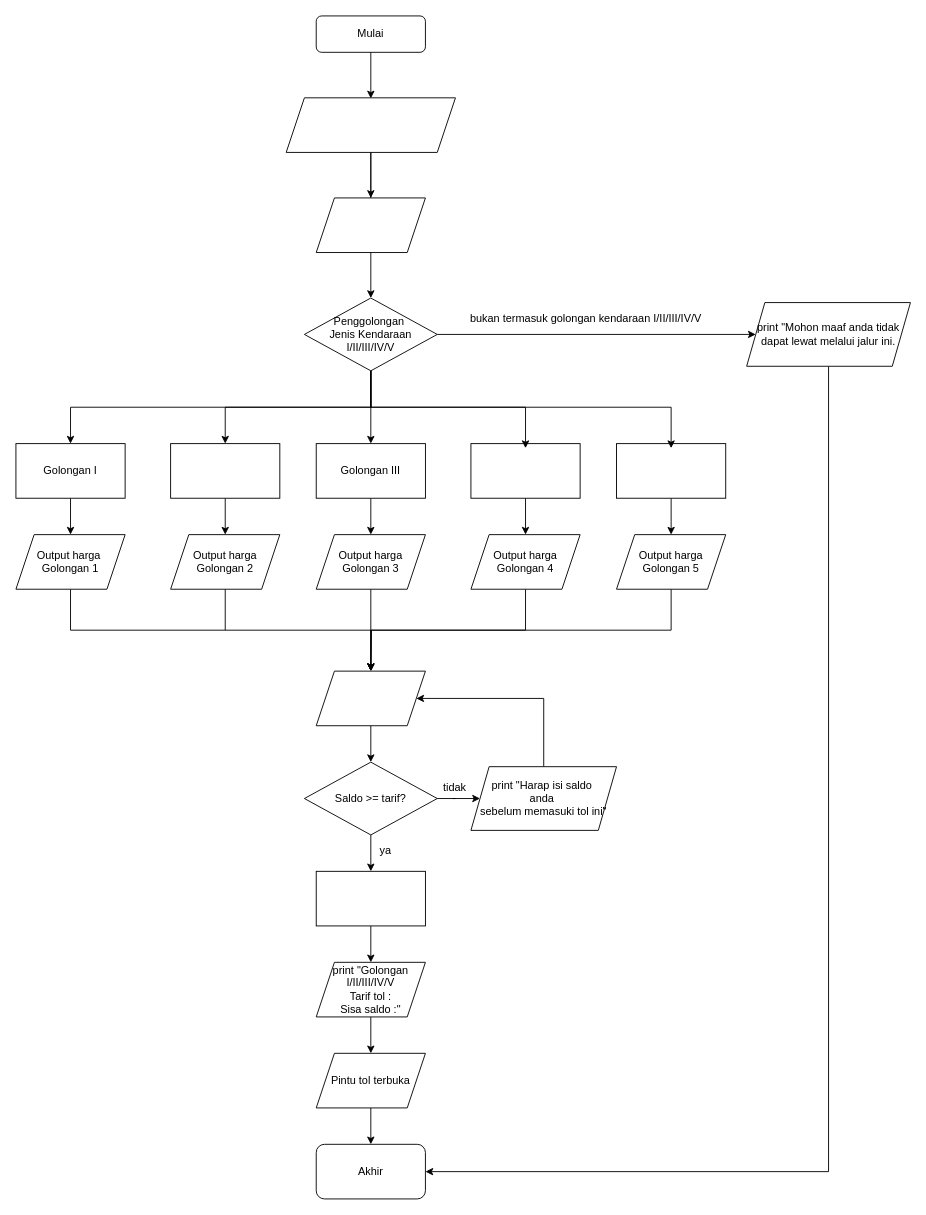
Some shapes in this 926 by 1215 pixel diagram are drawn without their labels. The box of each missing label's shape, as (x1, y1, x2, y2) in pixels:
Golongan II: (170, 443, 280, 498)
Golongan IV: (470, 443, 580, 498)
Golongan V: (616, 443, 726, 498)
Input data kartu e-toll: (315, 670, 425, 726)
Input Jenis Kendaraan: (315, 197, 425, 253)
print "Selamat datang di Tol Cipularang" + tarif: (285, 97, 455, 152)
sisa saldo = saldo - tarif: (315, 870, 425, 926)
